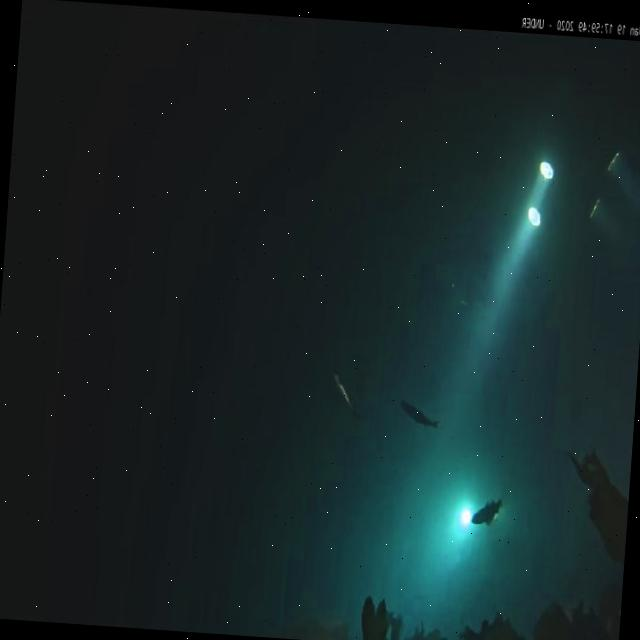fish: (328, 373, 362, 423), (469, 492, 504, 530), (398, 399, 439, 431)
